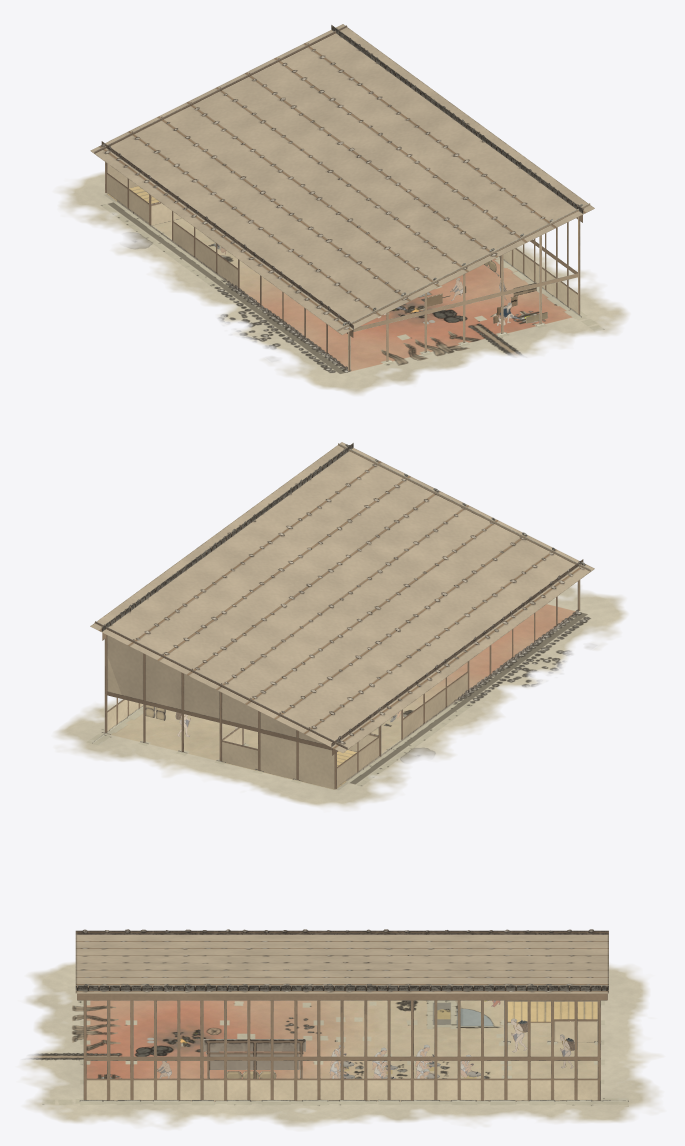
The model's file is kakiwari-kaname.glb.
3 views of the same model, one above another, from view 1: azimuth 30°, elevation 25°; view 2: azimuth 150°, elevation 25°; view 3: azimuth 270°, elevation 25° (orthographic). The views are drawn at different scales.
Parts seen in each view (by area): view 1: 屋根, 地面, 西面（外周）, 東面（外周）, 南面（外周・柱と梁と軒のみ）, 北面（外周）; view 2: 屋根, 地面, 北面（外周）, 西面（外周）, 東面（外周）, 南面（外周・柱と梁と軒のみ）; view 3: 地面, 東面（外周）, 屋根, Sumiokiba_炭置き場（屋根・囲い付き）, 西面（外周）, 板間の東の仕切り（腰壁＋桟）.
Boxes of the visible parts, box(x1,y1,x2,y2) form: 屋根: box(90, 24, 594, 334); 地面: box(57, 171, 629, 395); 西面（外周）: box(101, 141, 353, 371); 東面（外周）: box(331, 25, 583, 317); 南面（外周・柱と梁と軒のみ）: box(337, 203, 590, 370); 北面（外周）: box(94, 25, 347, 193); 屋根: box(90, 442, 594, 752); 地面: box(54, 584, 627, 810); 北面（外周）: box(94, 621, 347, 789); 西面（外周）: box(331, 559, 583, 788); 東面（外周）: box(92, 443, 353, 743); 南面（外周・柱と梁と軒のみ）: box(338, 443, 590, 610); 地面: box(21, 962, 662, 1129); 東面（外周）: box(75, 983, 628, 1106); 屋根: box(75, 935, 608, 993); Sumiokiba_炭置き場（屋根・囲い付き）: box(203, 1039, 305, 1078); 西面（外周）: box(75, 929, 608, 934); 板間の東の仕切り（腰壁＋桟）: box(503, 1000, 601, 1042).
Bounding box in the file's own units: 17.8 × 5.85 × 27.65.
40 materials, 40 textured.
